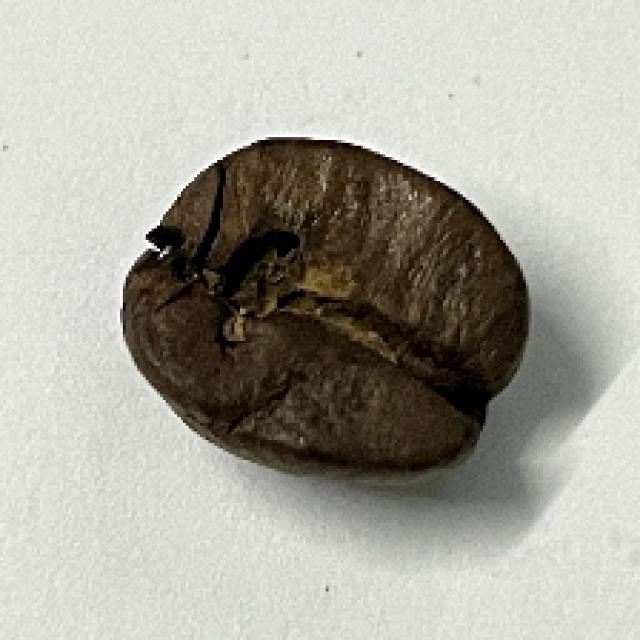bean: (115, 135, 531, 482)
